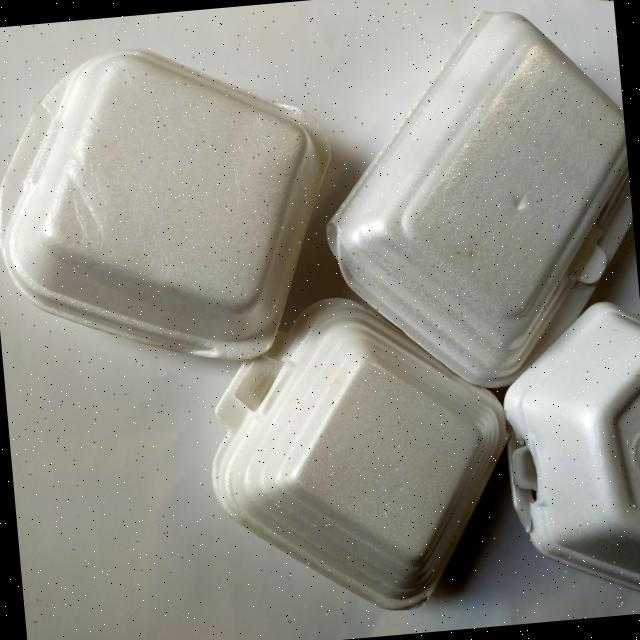styrofoam: (0, 0, 640, 640), (195, 281, 524, 626)
